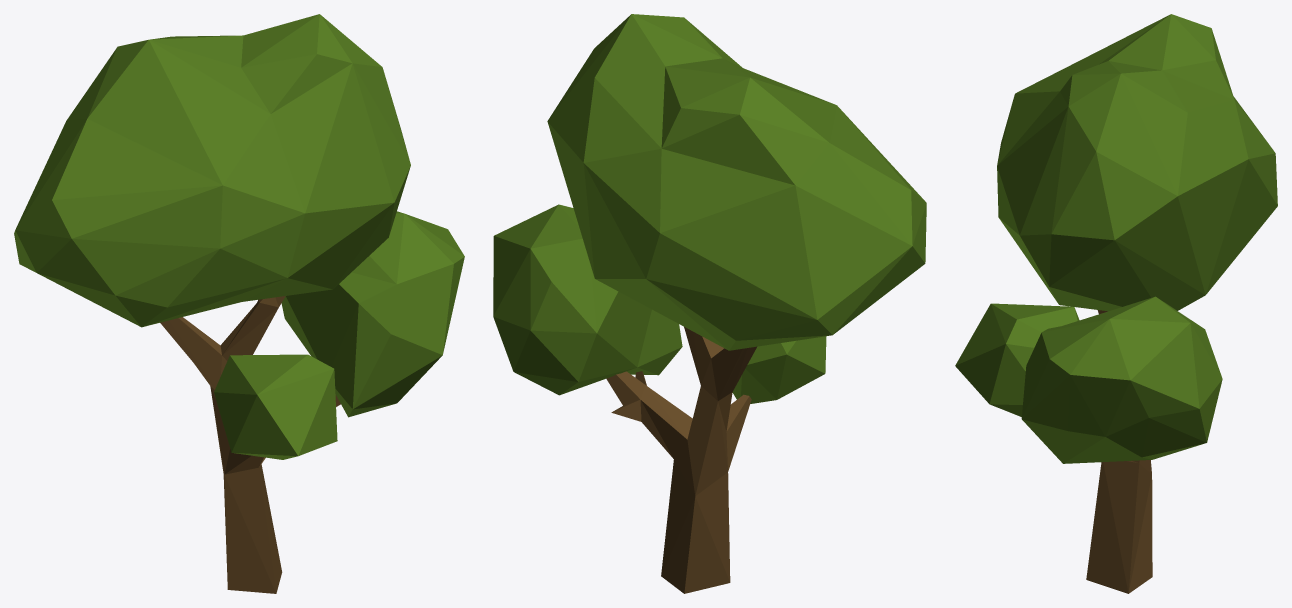
The picture shows the model from 3 angles, left to right: view 1: azimuth 30°, elevation 25°; view 2: azimuth 150°, elevation 25°; view 3: azimuth 270°, elevation 25°; orthographic projection. The views are drawn at different scales.
Parts seen in each view (by area): view 1: Tree1_1; view 2: Tree1_1; view 3: Tree1_1.
Part boxes in pixels (box(x1,y1,x2,y2)): Tree1_1: box(14, 14, 464, 593); Tree1_1: box(493, 14, 926, 593); Tree1_1: box(955, 14, 1277, 593).
Size of the model in its own units: 5.93 by 7.35 by 4.01.
